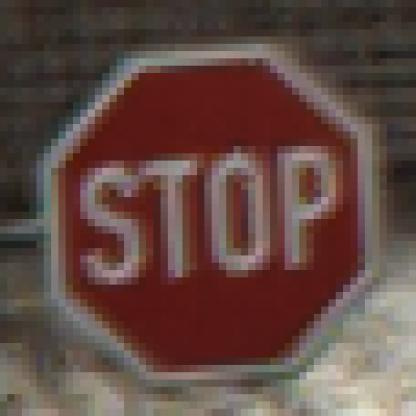stop: (29, 43, 403, 378)
